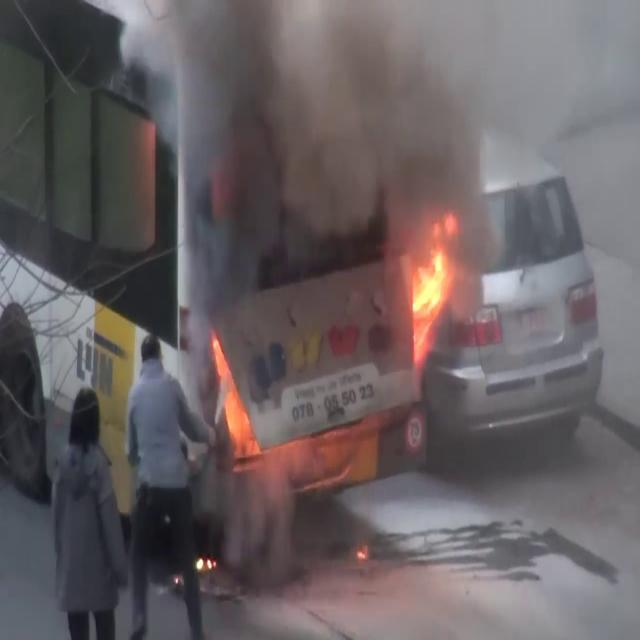Fire: (401, 210, 467, 362), (209, 324, 257, 461)
Smoke: (126, 0, 507, 301)
